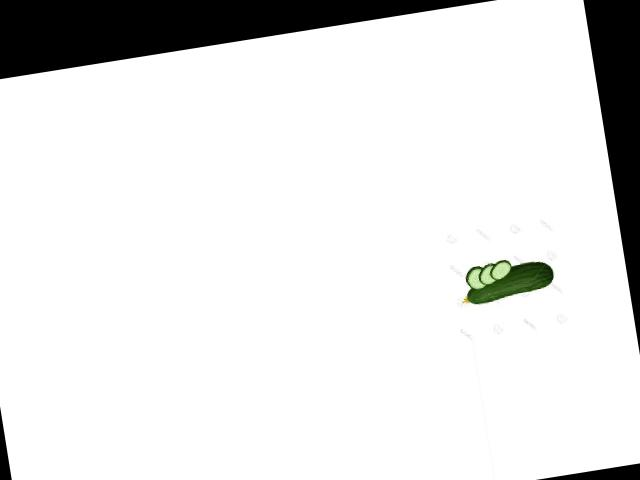cucumber: (458, 258, 557, 305)
